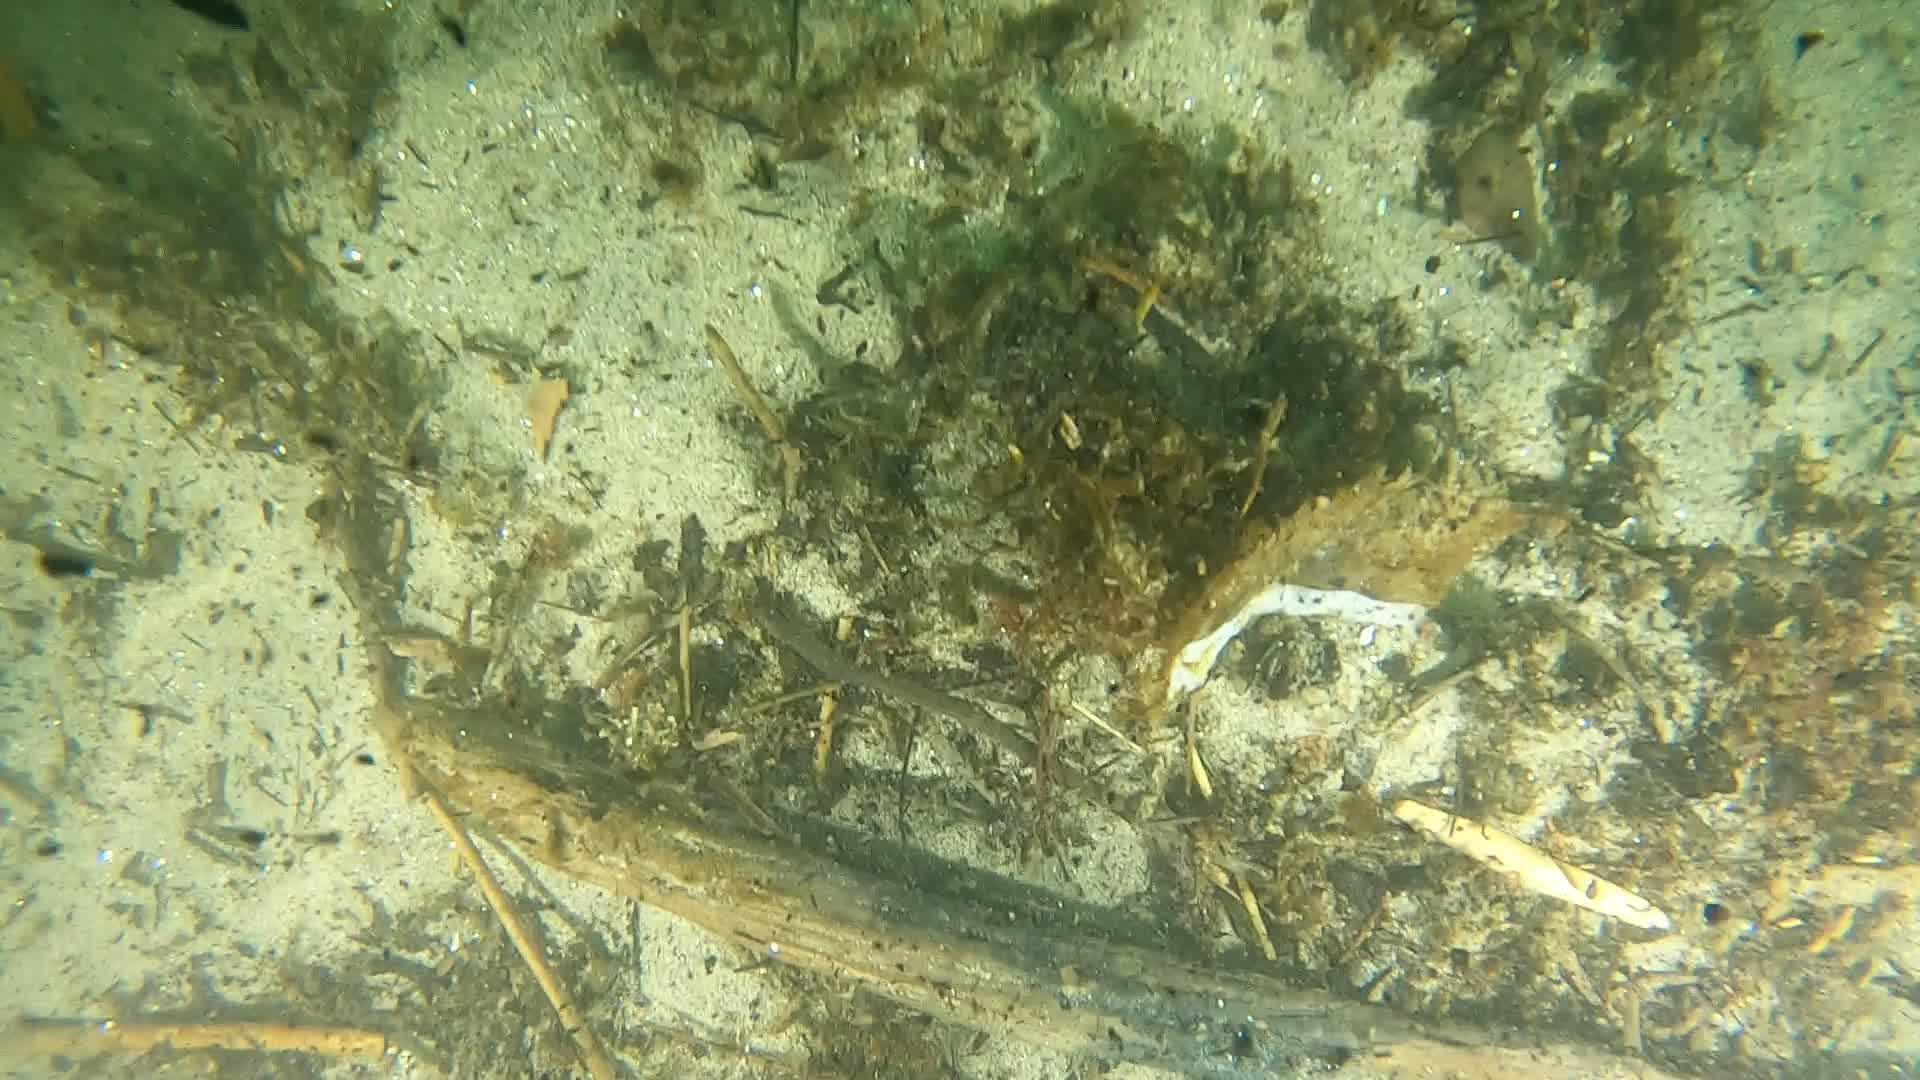wood: (368, 694, 1704, 1080)
